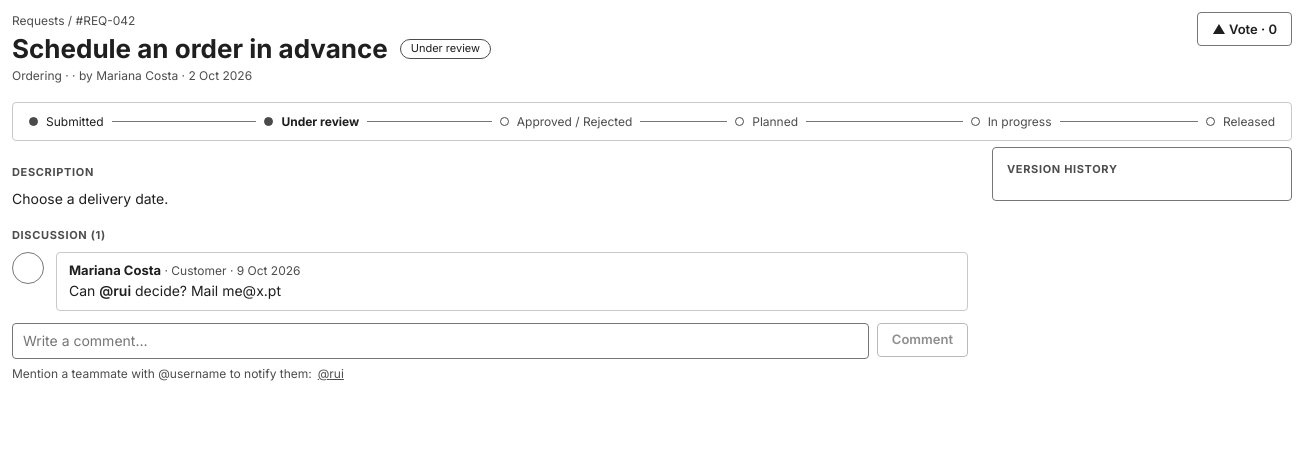
Test case: Mentions in the request discussion › highlights mentions and inserts a teammate into the comment
The image size is (1304, 467).
Expected: the text "@rui" reads "Can @rui decide? Mail me@x.pt", [69, 282, 281, 299]
In the field labelled "Write a comment": (440, 341) [12, 323, 869, 359], type "Please check"
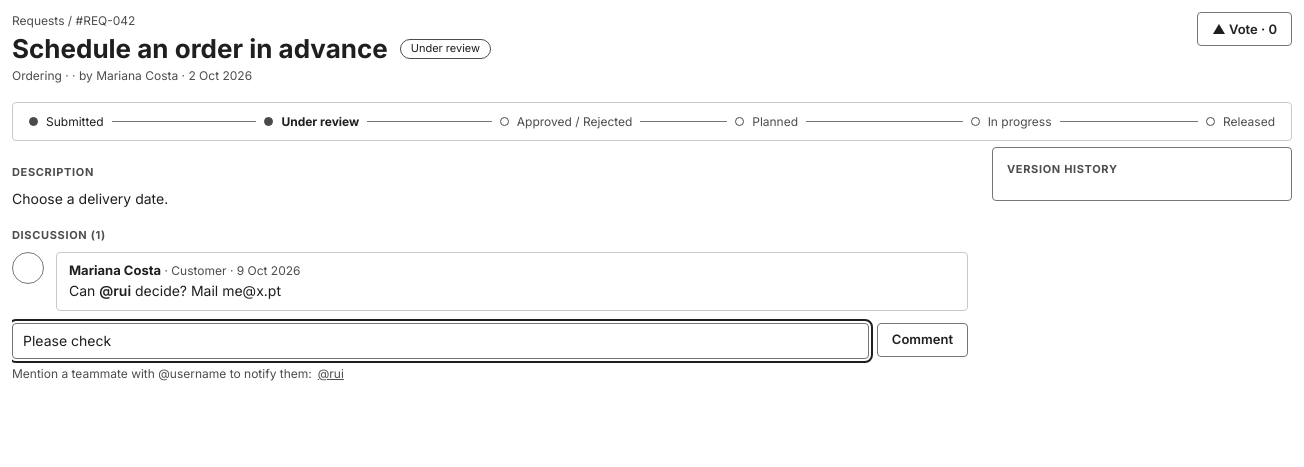
Click the button "@rui": click(331, 373) [318, 365, 344, 382]
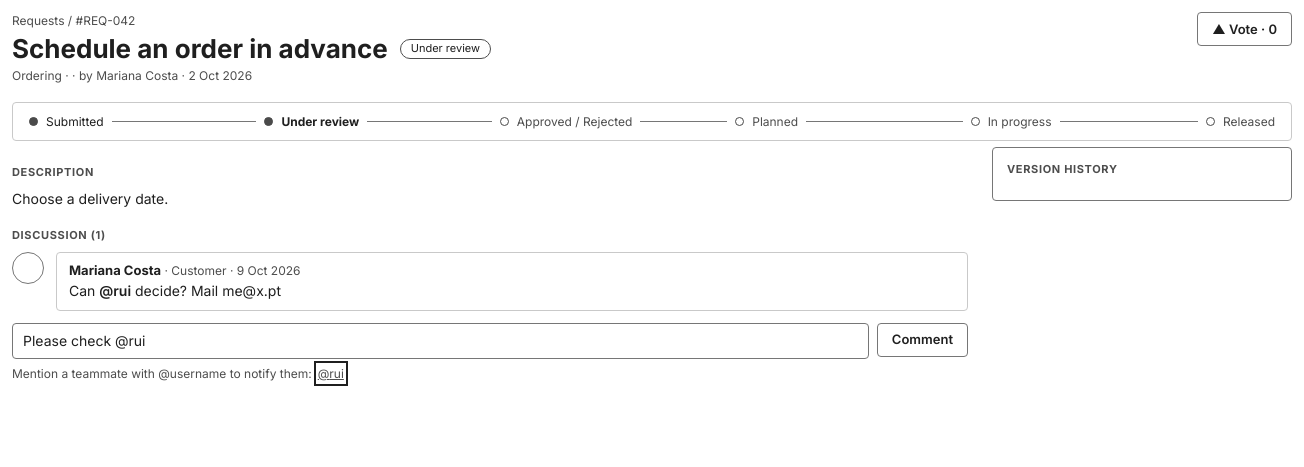
Expected: the field named "Write a comment" holds "Please check @rui ", [12, 323, 869, 359]
Click the button "Comment": click(922, 340) [877, 323, 968, 357]
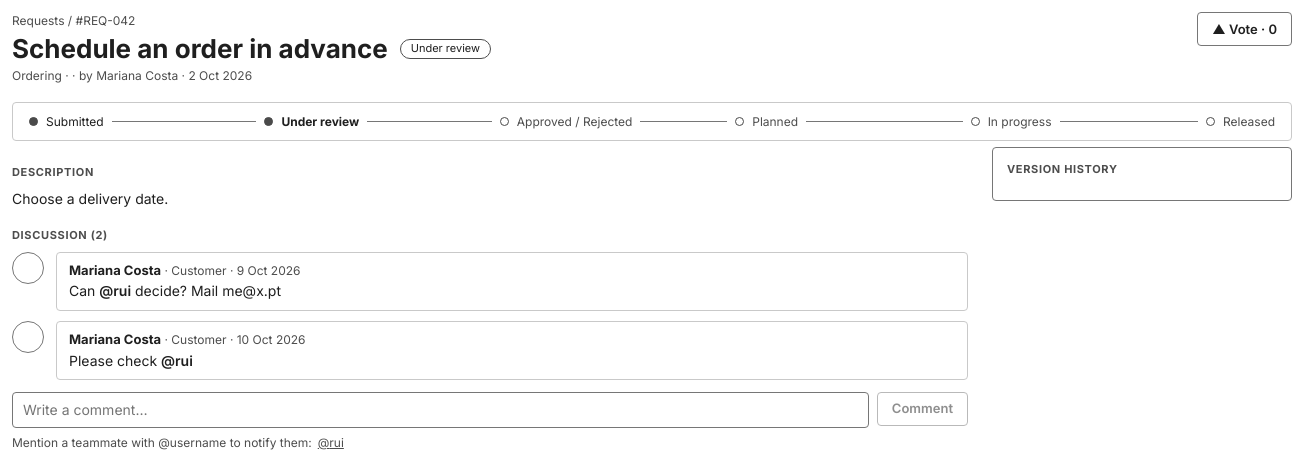
Expected: the heading "Discussion (2)" is shown, [12, 228, 108, 242]
